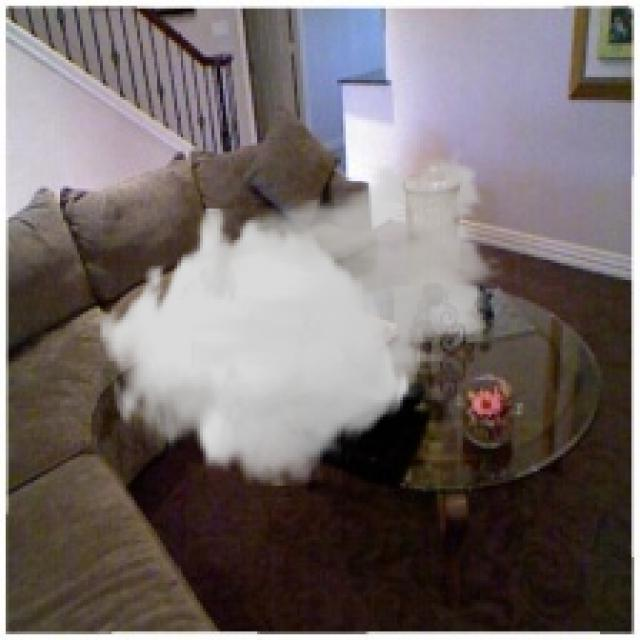smoke: (97, 143, 506, 486)
